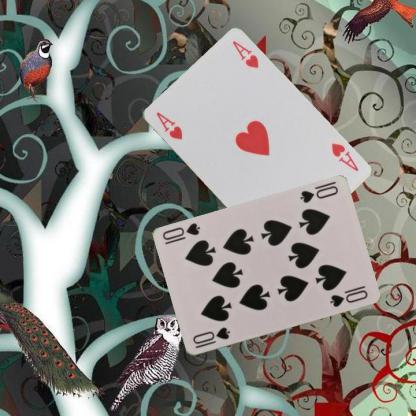10s: (190, 325, 232, 350), (297, 183, 339, 205)
Ah: (328, 140, 360, 173), (153, 109, 184, 141)
